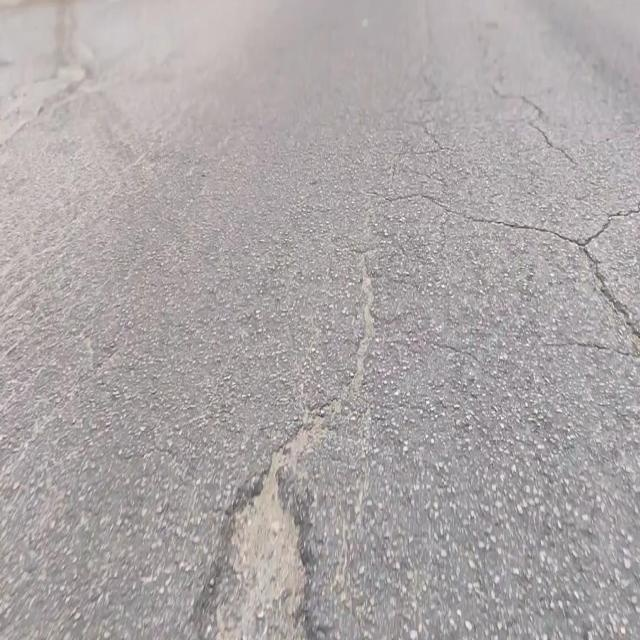pothole: (203, 446, 319, 640)
